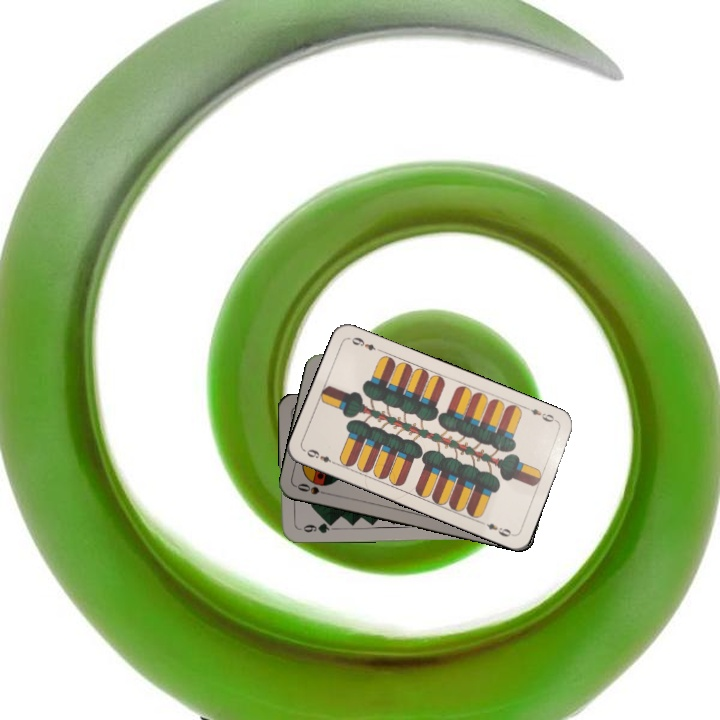E9: (302, 445, 340, 468), (522, 403, 560, 425)
G9: (294, 518, 334, 536)
SO: (293, 479, 333, 498)
